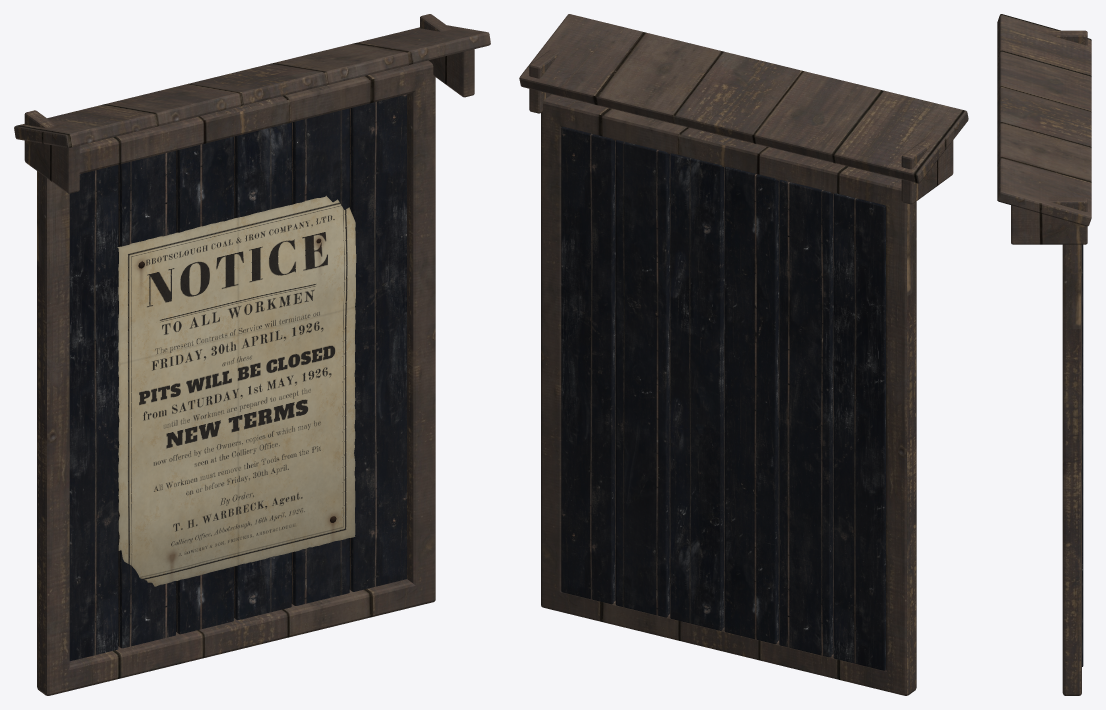
Rendered from notice-on-board.glb.
3 renders of one model, left to right at view 1: azimuth 30°, elevation 25°; view 2: azimuth 150°, elevation 25°; view 3: azimuth 270°, elevation 25°, orthographic. The views are drawn at different scales.
Visible parts, largest first — view 1: notice-board, notice; view 2: notice-board; view 3: notice-board.
Part boxes in pixels (bbox=[...]): notice-board: bbox=[14, 14, 490, 695]; notice: bbox=[117, 195, 356, 586]; notice-board: bbox=[519, 14, 968, 695]; notice-board: bbox=[997, 14, 1091, 695].
Bounding box in the file's own units: 0.88 × 1.18 × 0.1961.
Materials: 4 (4 with a texture image).
